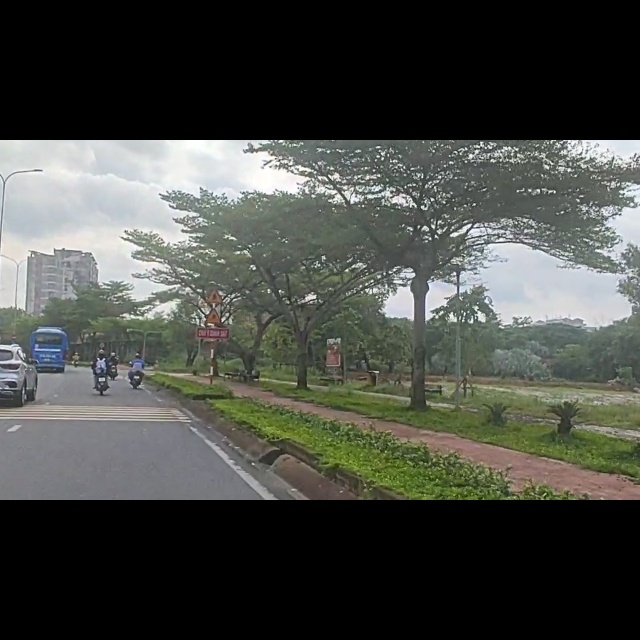bien_nguy_hiem: (202, 297, 227, 332), (203, 260, 225, 293)
